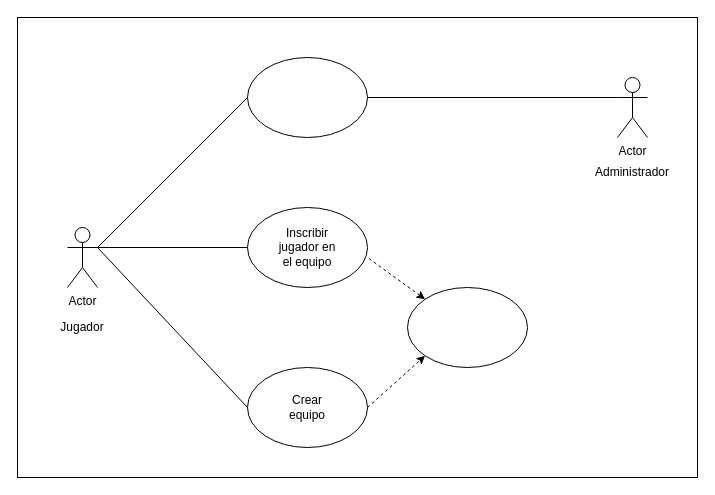
Image size: 715x495. Some labels were removed from this diagram. Each missing label, with the centre of its shape:
"Comprobar si equipo existe" goes at (467,327).
"Consultar lista de equipos y jugadores" goes at (307,97).
